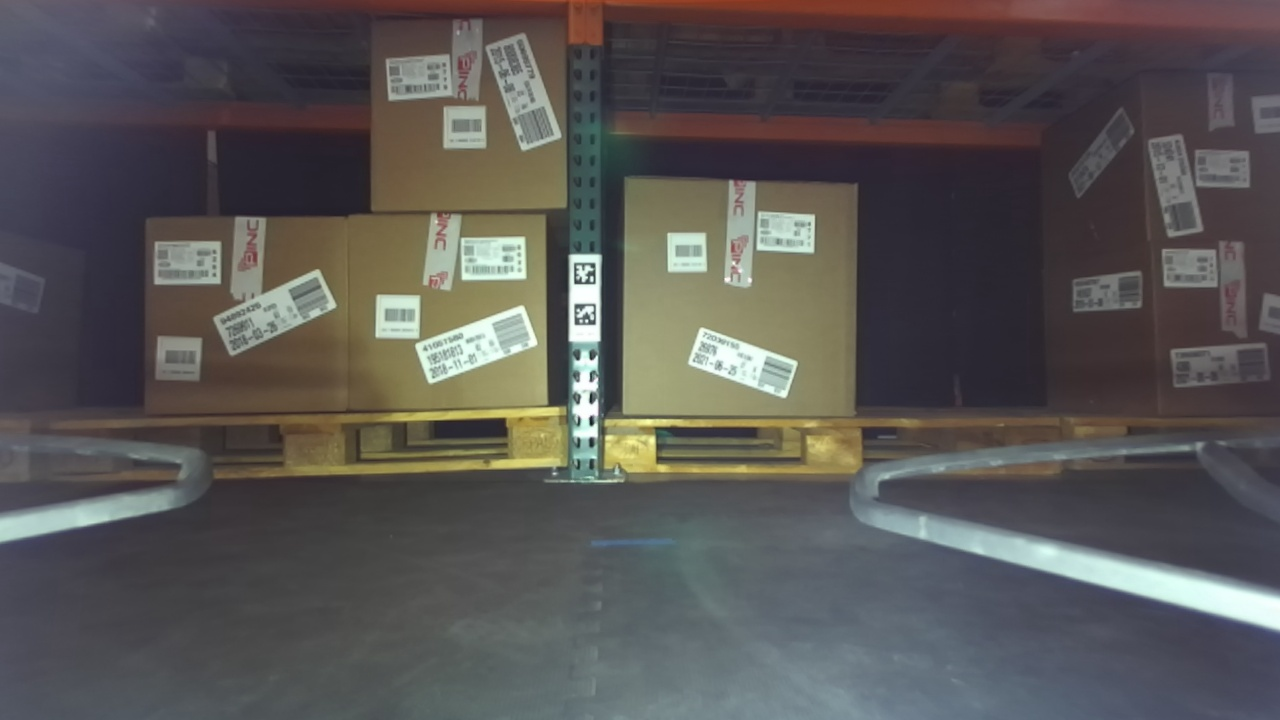box: (594, 156, 888, 447), (333, 180, 580, 430), (124, 195, 370, 427), (350, 1, 573, 228), (1114, 45, 1280, 267), (1135, 227, 1276, 442)
